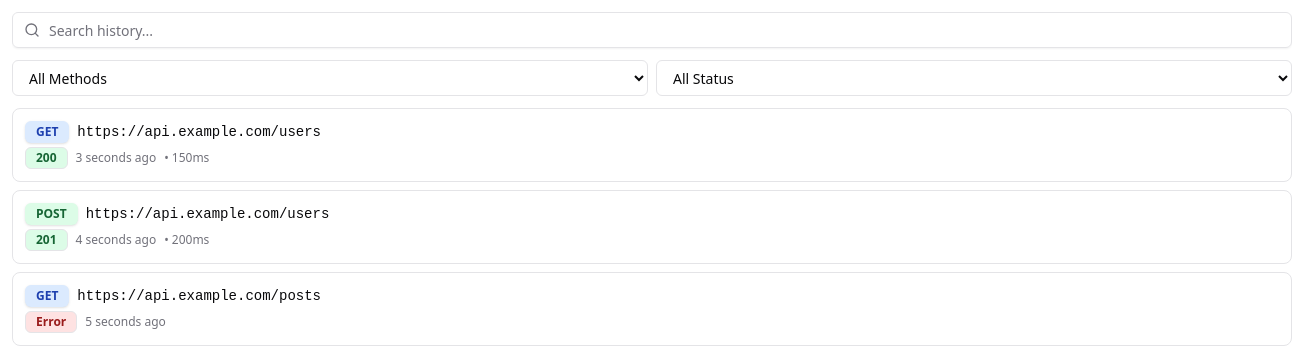
it: HistoryList › should show no results message when filters match nothing
Type "nonexistent" into the field with placeholder "Search history..." at (652, 30), box x1=12 y1=12 x2=1292 y2=48
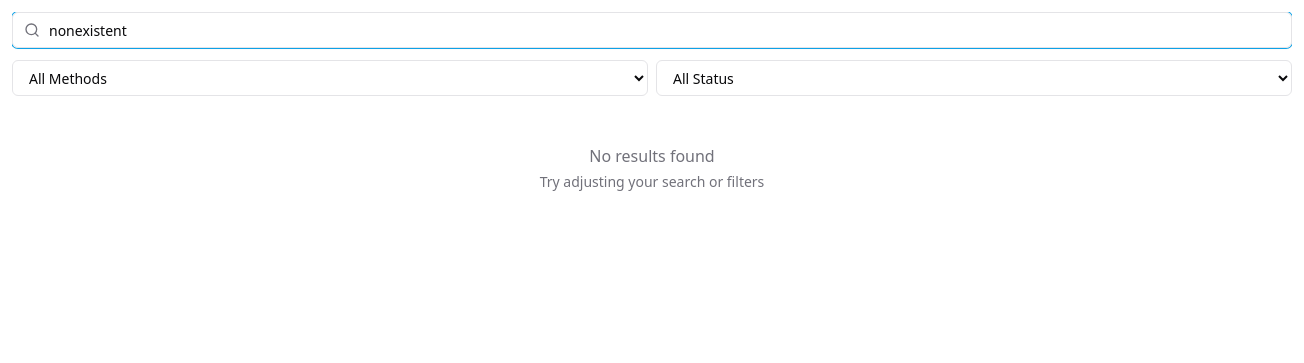
Now the text "No results found" is shown, box x1=589 y1=145 x2=715 y2=167
